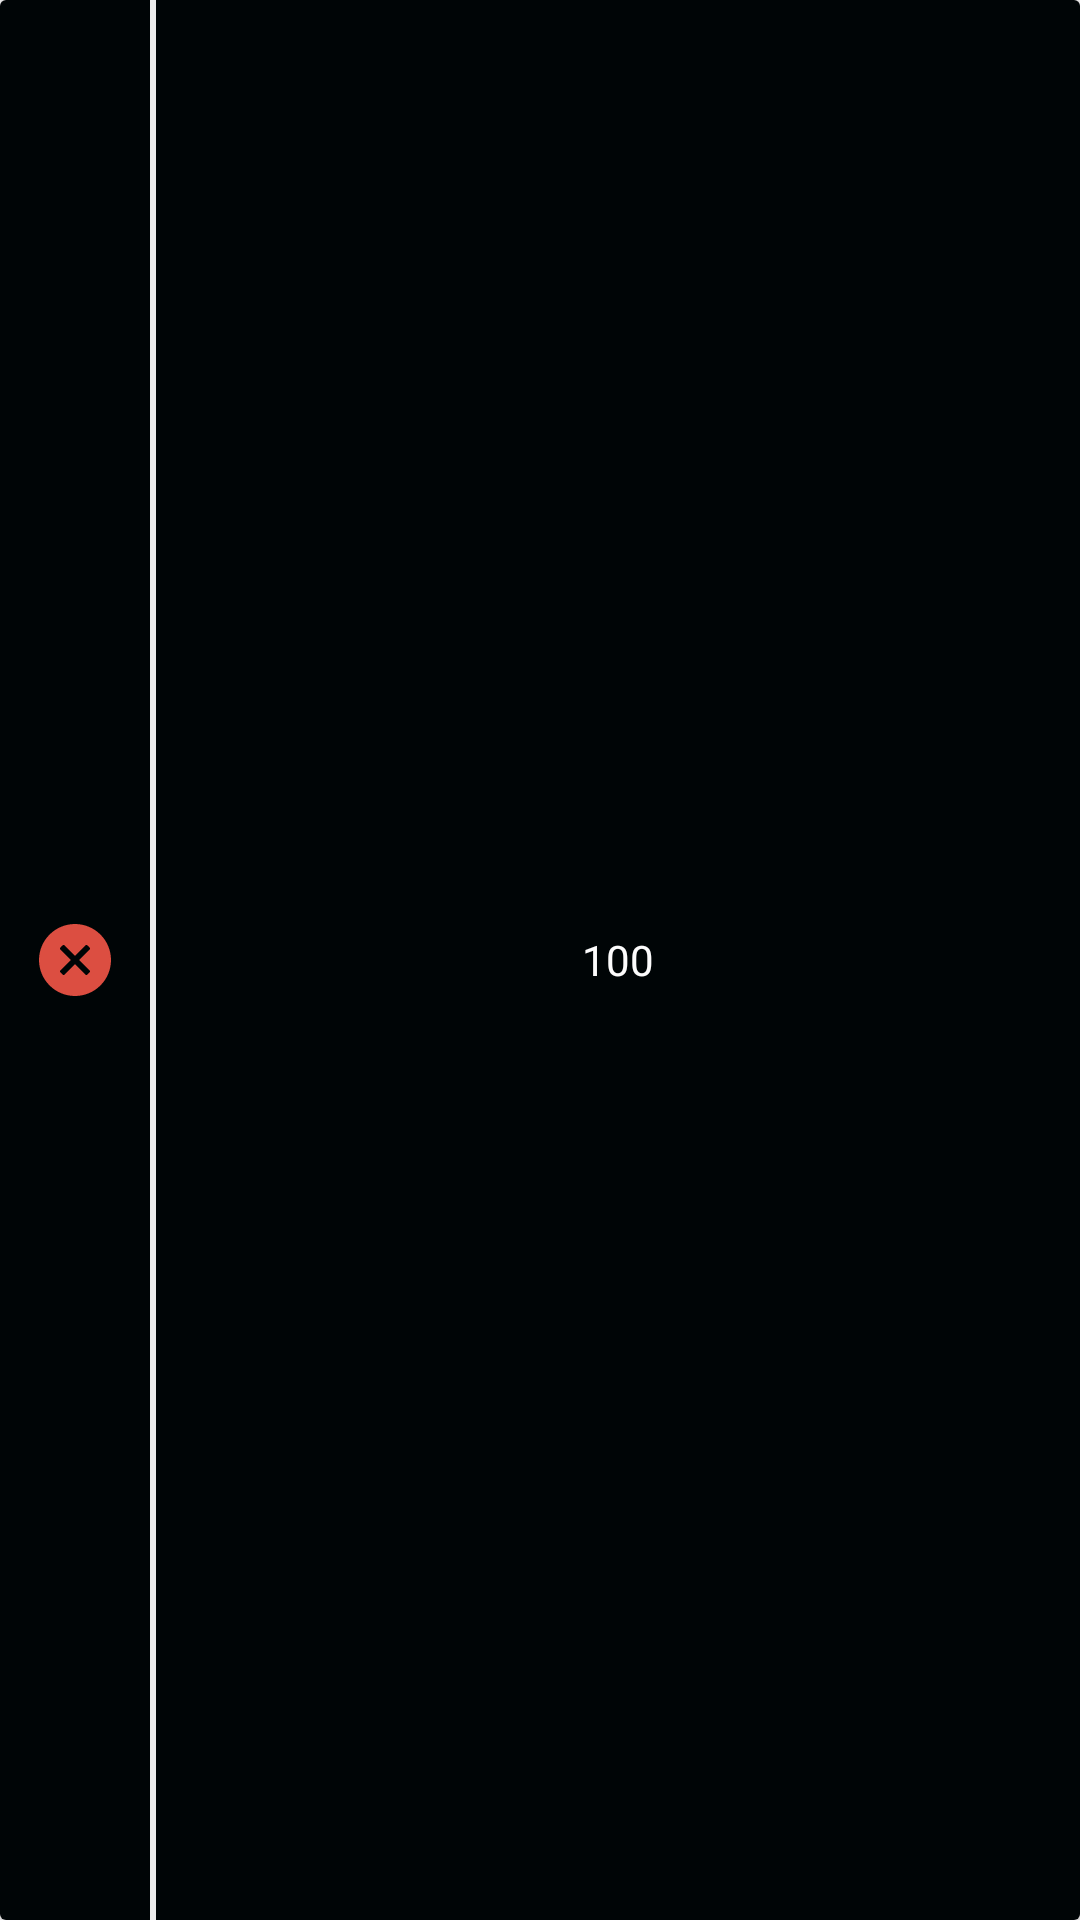

Screen size 1080×1920. Icon name, then its box in pixels as [x1,y1,x2,y2]:
false: [39,924,111,996]
